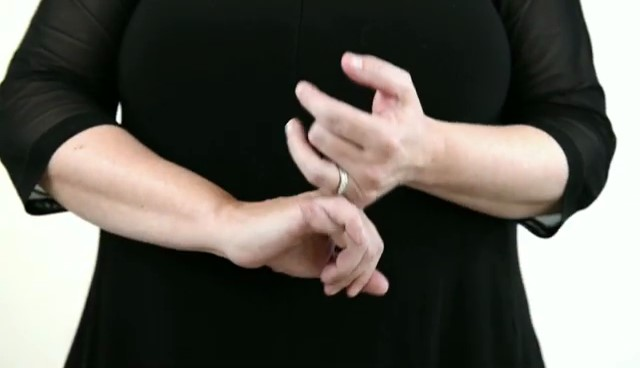S: (222, 44, 414, 309)
